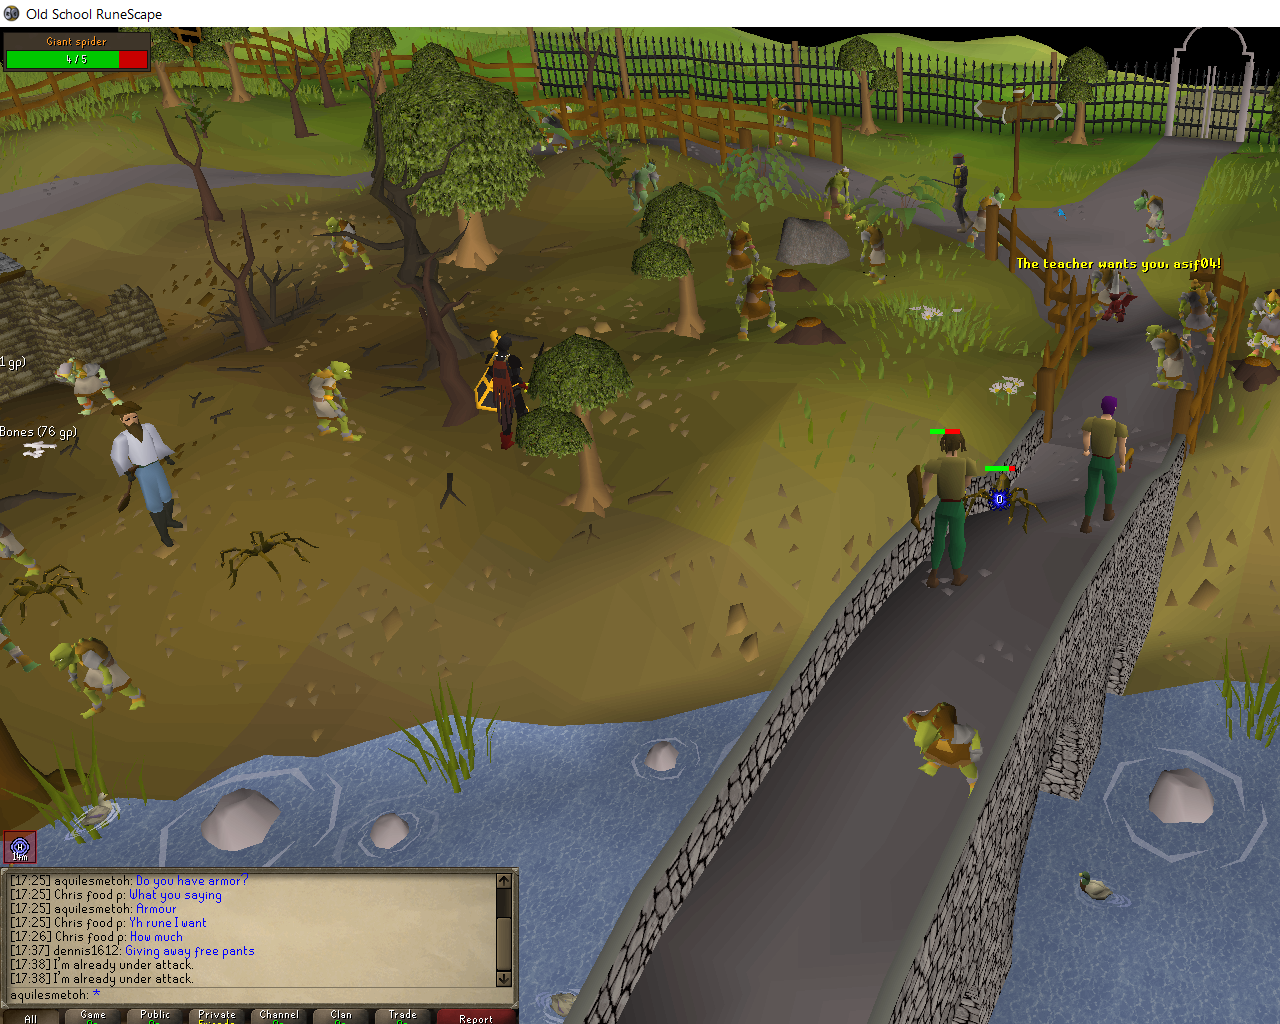Goblin: (897, 700, 987, 801), (47, 637, 155, 721), (305, 357, 366, 446), (53, 356, 133, 418), (738, 267, 790, 344), (1145, 323, 1198, 393), (1176, 279, 1225, 348), (1086, 262, 1135, 323), (324, 216, 374, 274), (854, 218, 893, 290), (1128, 189, 1176, 247), (721, 220, 762, 285), (817, 165, 861, 225), (1246, 288, 1280, 362), (627, 160, 664, 214), (769, 97, 799, 150)
